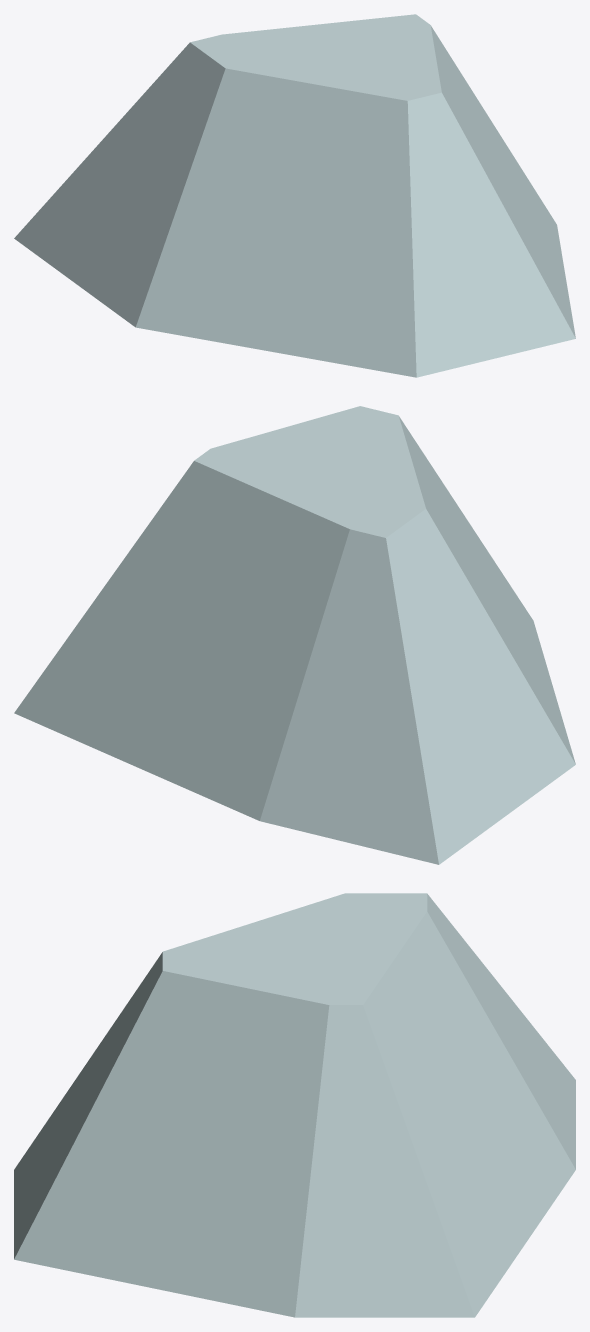
The model's file is stone_smallB.glb.
3 renders of one model, top to bottom at view 1: azimuth 30°, elevation 25°; view 2: azimuth 150°, elevation 25°; view 3: azimuth 270°, elevation 25°, orthographic. The views are drawn at different scales.
Visible parts, largest first — view 1: stone_smallB; view 2: stone_smallB; view 3: stone_smallB.
Part boxes in pixels (x1,y1,x2,y2): stone_smallB: (14,14,575,377); stone_smallB: (14,406,575,864); stone_smallB: (14,893,575,1317).
Size of the model in its own units: 0.3608 by 0.1768 by 0.3608.
